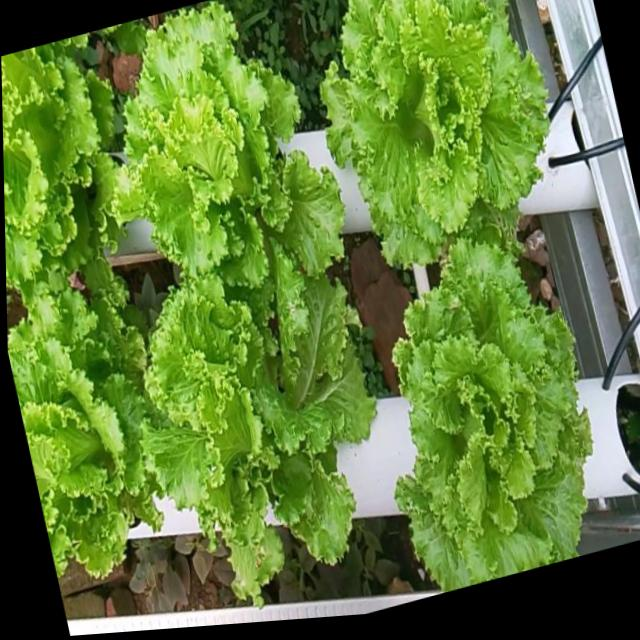Mature: (142, 286, 403, 613), (391, 237, 592, 591), (109, 6, 341, 296), (319, 0, 548, 272), (8, 298, 159, 591), (1, 48, 115, 326)
